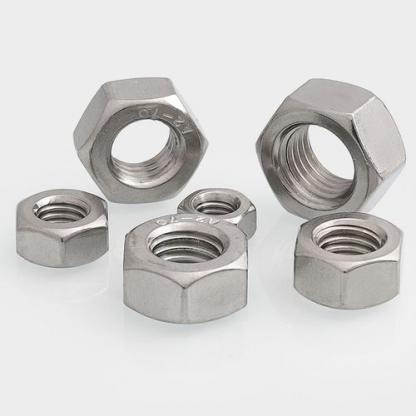FOD: (254, 78, 409, 222), (73, 72, 211, 208), (118, 213, 252, 324), (290, 209, 408, 311), (13, 190, 110, 270), (175, 187, 263, 240)
